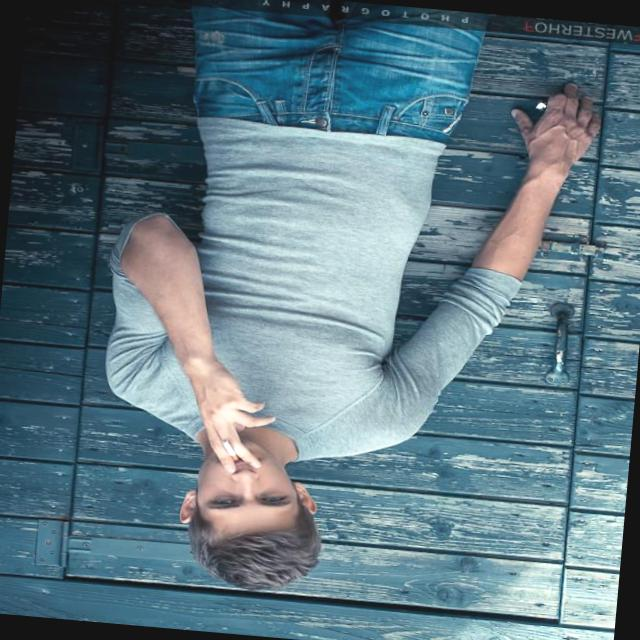cigarette: (211, 423, 253, 472)
